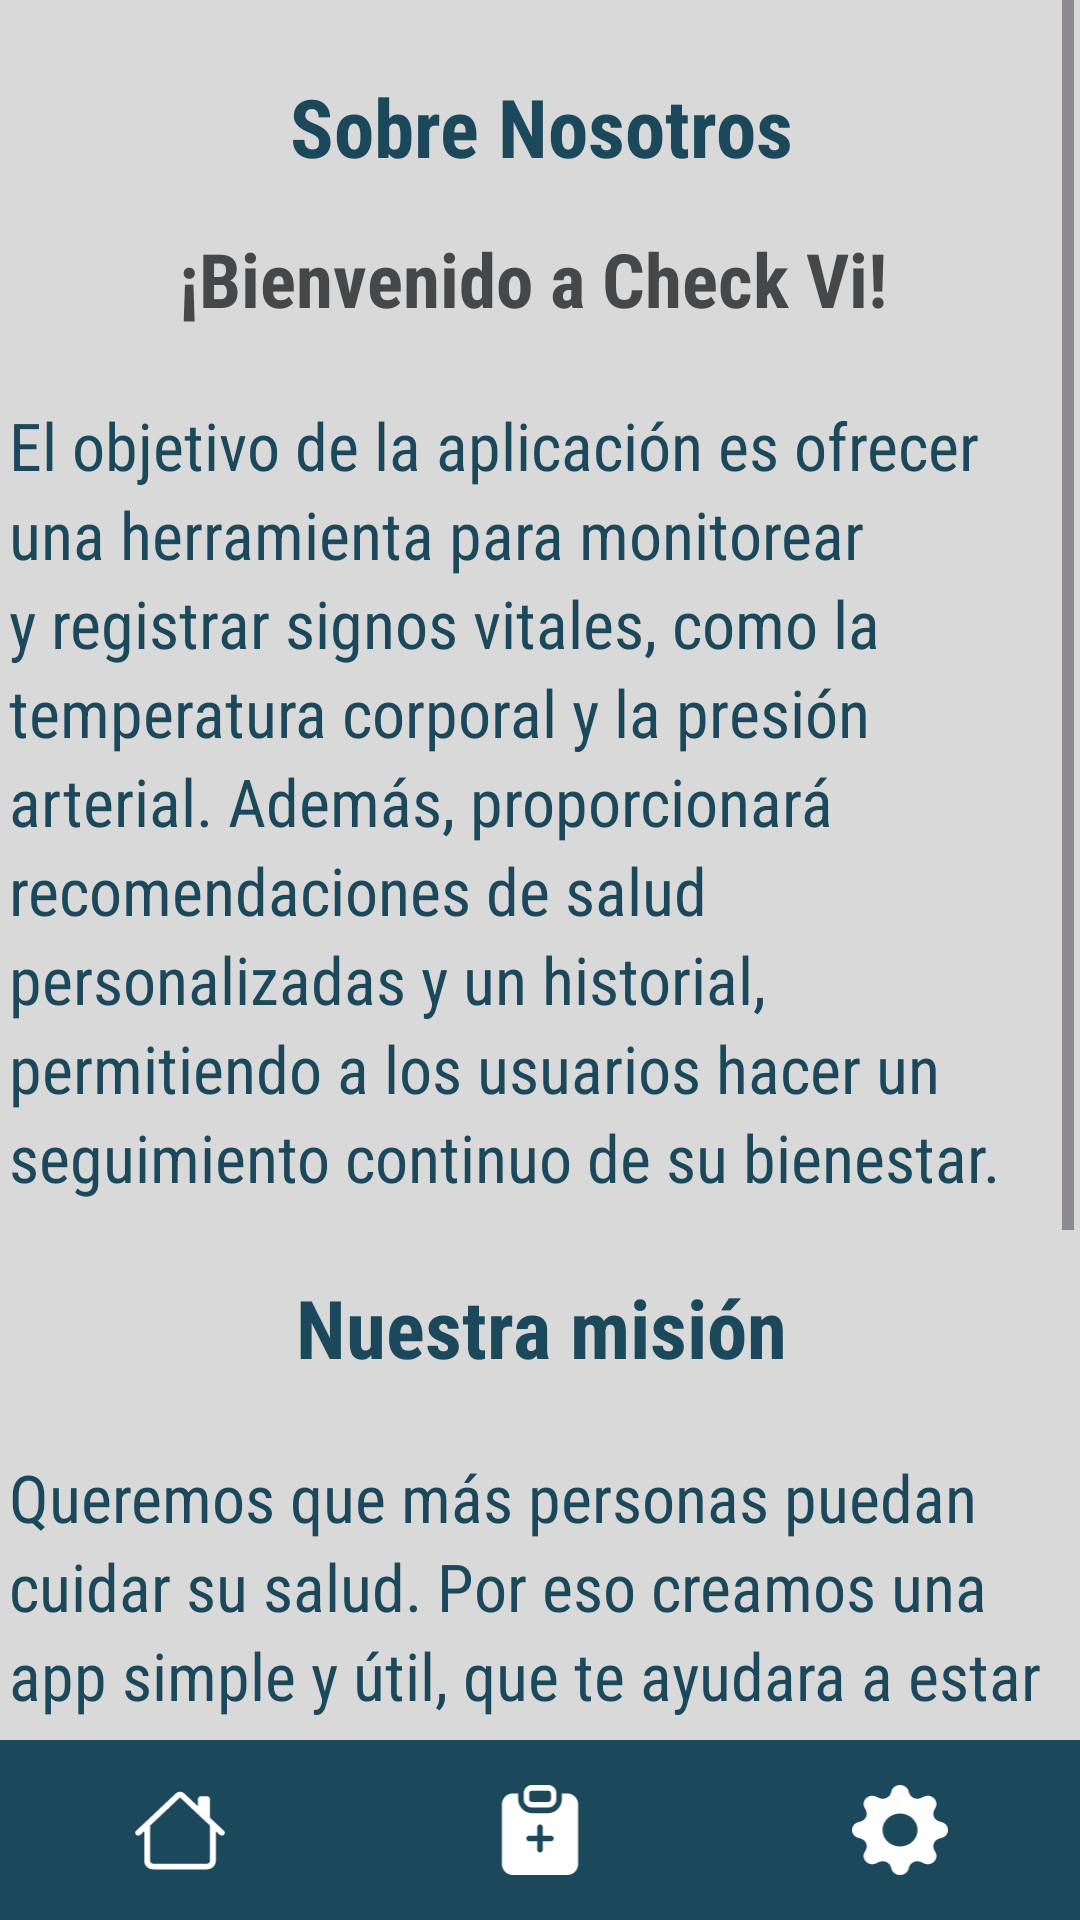

Named icons in this screenshot (1080px×1920px) and their centers, (x=x, y=y):
Agregar: (x=540, y=1830)
Configuración: (x=900, y=1830)
Inicio: (x=180, y=1830)
